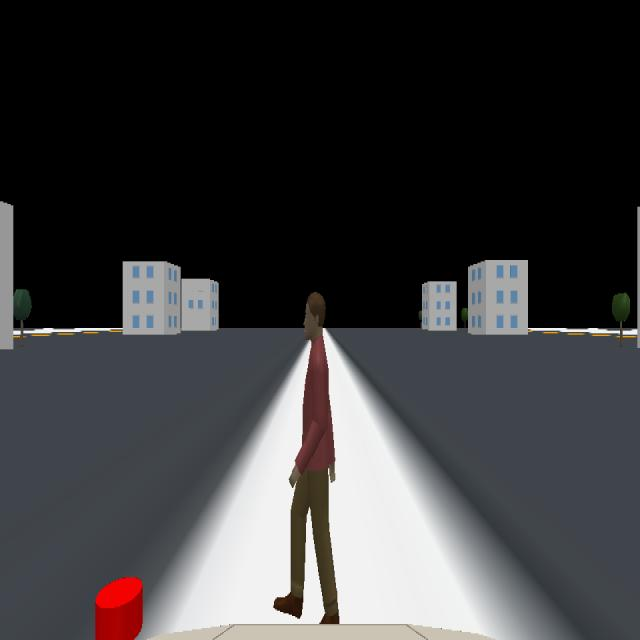human: (273, 291, 339, 624)
